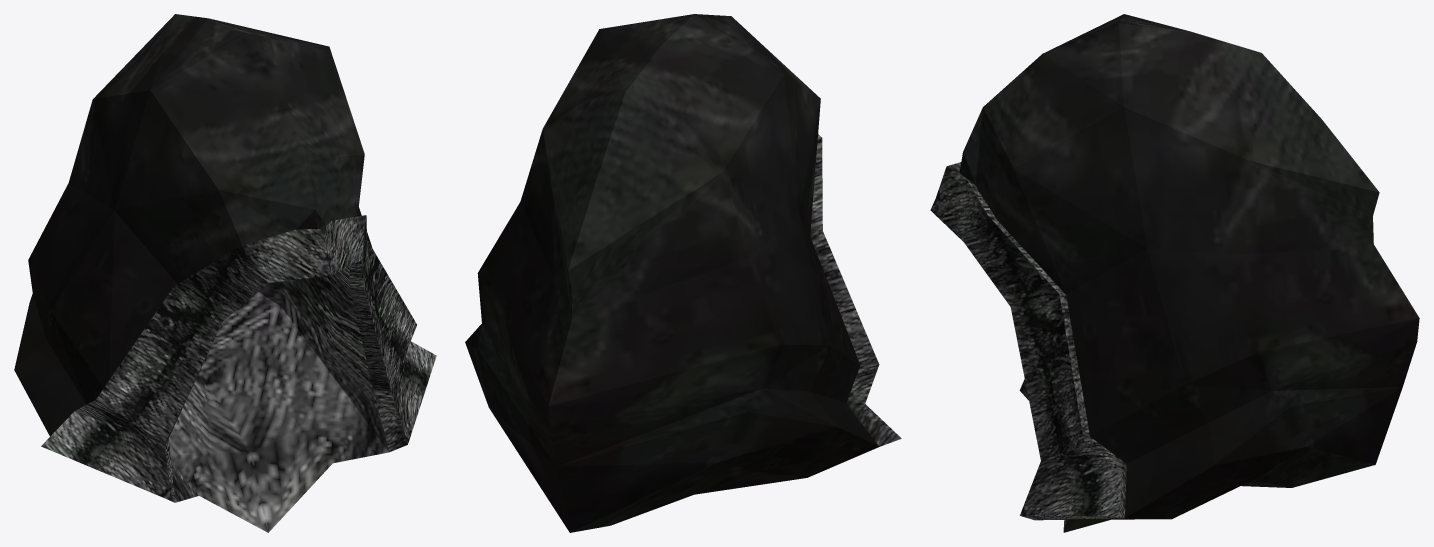
Rendered from SYN_HOOD_02.glb.
The picture shows the model from 3 angles, left to right: view 1: azimuth 30°, elevation 25°; view 2: azimuth 150°, elevation 25°; view 3: azimuth 270°, elevation 25°; orthographic projection. The views are drawn at different scales.
Parts seen in each view (by area): view 1: SYN_HOOD_02; view 2: SYN_HOOD_02; view 3: SYN_HOOD_02.
Part boxes in pixels (<box>): SYN_HOOD_02: <box>14,14,436,532</box>; SYN_HOOD_02: <box>465,14,901,532</box>; SYN_HOOD_02: <box>930,14,1419,532</box>.
Bounding box in the file's own units: 0.3559 × 0.4106 × 0.3575.
Materials: 1 (1 with a texture image).
